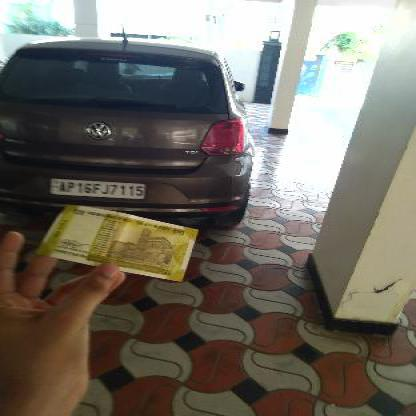New20Back: (44, 207, 200, 283)
